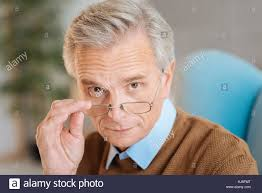Glasses: (79, 99, 163, 119)
